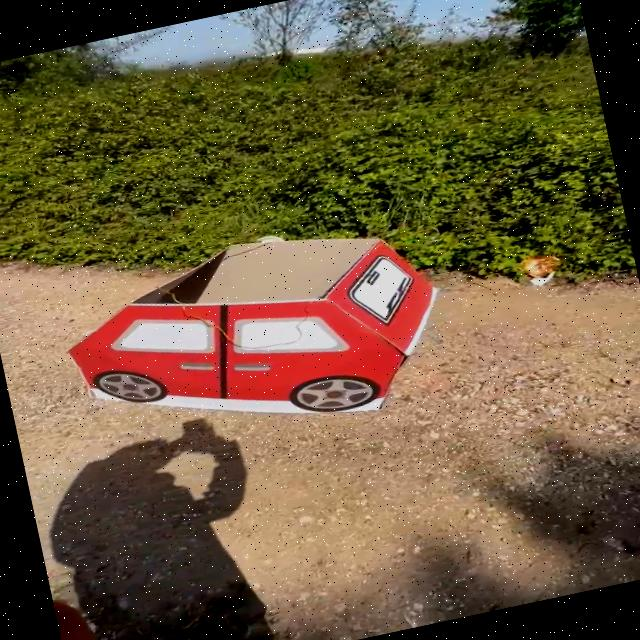red_car: (32, 195, 484, 485)
